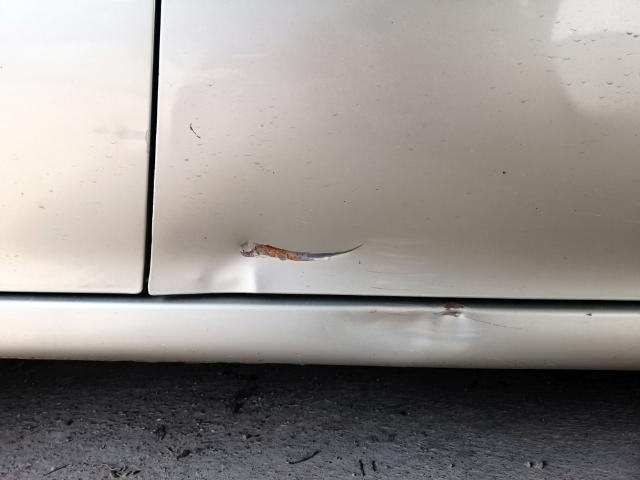dent: (160, 248, 576, 298), (317, 307, 476, 363)
scratch: (238, 241, 367, 260)
